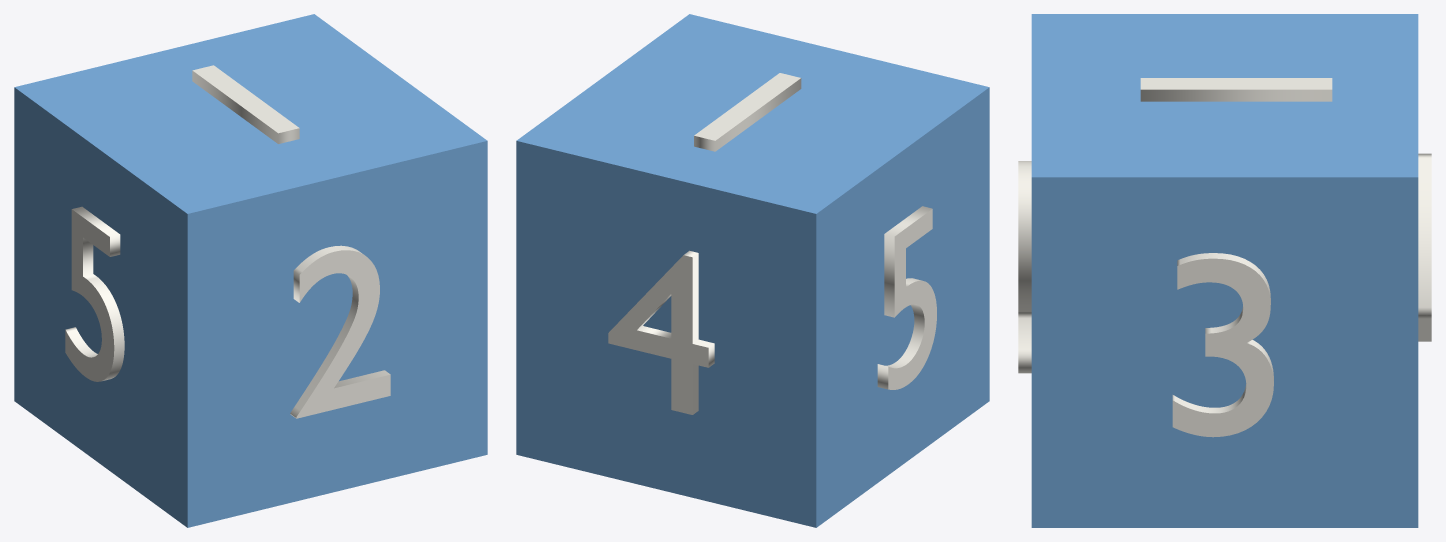
File: Dice_D6.glb
3 views of the same model, side by side, from view 1: azimuth 30°, elevation 25°; view 2: azimuth 150°, elevation 25°; view 3: azimuth 270°, elevation 25° (orthographic). The views are drawn at different scales.
Parts seen in each view (by area): view 1: Dice_D6; view 2: Dice_D6; view 3: Dice_D6.
Boxes of the visible parts, box(x1,y1,x2,y2) form: Dice_D6: box(14, 14, 487, 527); Dice_D6: box(516, 14, 989, 527); Dice_D6: box(1018, 14, 1431, 527).
Bounding box in the file's own units: 0.6174 × 0.6174 × 0.6174.
